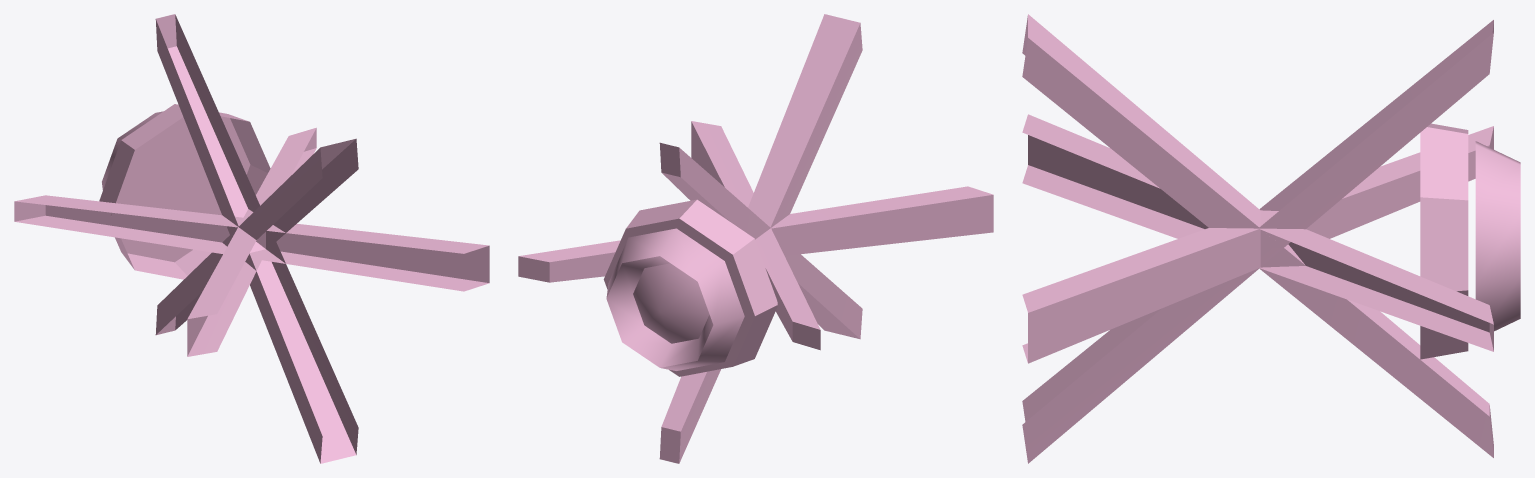
The picture shows the model from 3 angles, left to right: view 1: azimuth 30°, elevation 25°; view 2: azimuth 150°, elevation 25°; view 3: azimuth 270°, elevation 25°; orthographic projection. The views are drawn at different scales.
Parts seen in each view (by area): view 1: Object85; view 2: Object85; view 3: Object85.
Boxes of the visible parts, x1=… form: Object85: x1=14, y1=14, x2=489, y2=463; Object85: x1=518, y1=14, x2=993, y2=463; Object85: x1=1022, y1=14, x2=1520, y2=463.
Size of the model in its own units: 18478 by 18478 by 19576.
